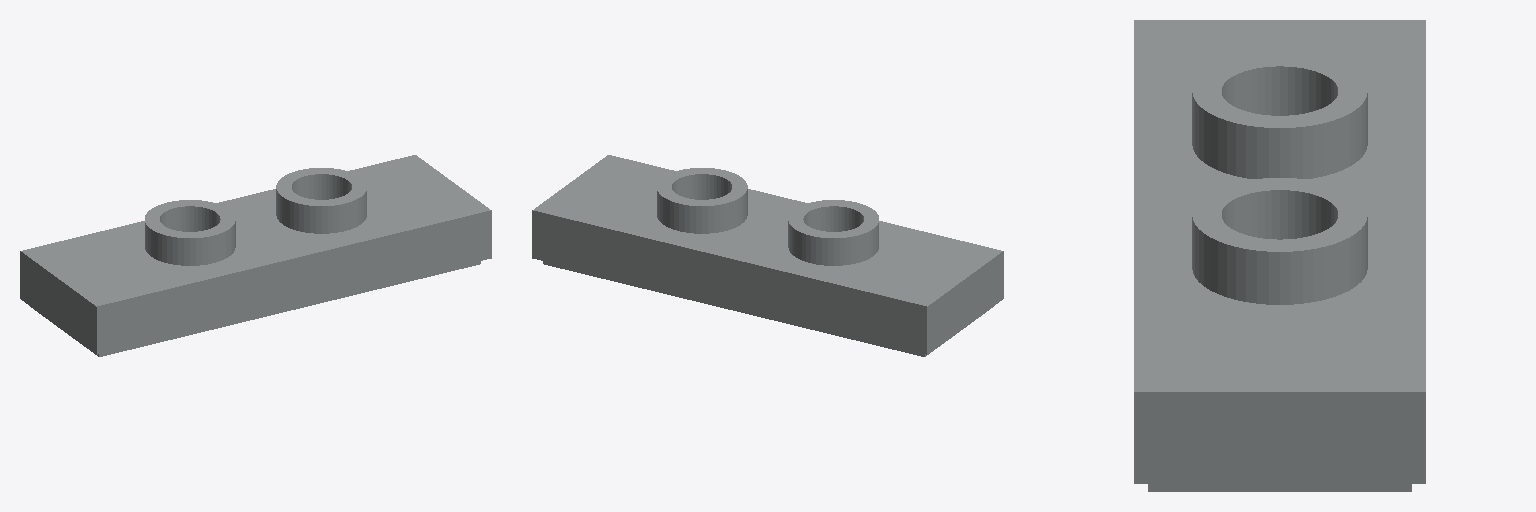
URDF robot description (34103__light_bluish_gray):
<?xml version="1.0"?>
<robot name="34103__light_bluish_gray">
  <link name="34103__light_bluish_gray">
    <inertial>
      <origin xyz="0.000000 0.000000 -0.001055" rpy="0 0 0"/>
      <mass value="0.000840"/>
      <inertia ixx="5.466965507e-09" ixy="-5.159781409e-25" ixz="-3.055117956e-25" iyy="3.830927649e-08" iyz="1.835657523e-26" izz="4.109653476e-08"/>
    </inertial>
    <visual>
      <geometry>
        <mesh filename="../meshes/visual/34103.obj" scale="1 1 1"/>
      </geometry>
      <material name="34103__light_bluish_gray_color">
        <color rgba="0.630 0.650 0.650 1.000"/>
      </material>
    </visual>
    <collision>
      <geometry>
        <mesh filename="../meshes/collision/34103_hull.obj" scale="1 1 1"/>
      </geometry>
    </collision>
  </link>
</robot>

--- Facts derived from the render (not from the file) ---
The picture shows the robot from 3 angles, left to right: view 1: azimuth 30°, elevation 25°; view 2: azimuth 150°, elevation 25°; view 3: azimuth 270°, elevation 25°; orthographic projection.
Model 34103__light_bluish_gray with 1 links and 0 joints (none), rooted at 34103__light_bluish_gray, posed all joints at 0.
Links seen in each view (by area): view 1: 34103__light_bluish_gray; view 2: 34103__light_bluish_gray; view 3: 34103__light_bluish_gray.
Link boxes in pixels (left/top/right/bottom): 34103__light_bluish_gray: left=20, top=155, right=491, bottom=356; 34103__light_bluish_gray: left=532, top=155, right=1003, bottom=356; 34103__light_bluish_gray: left=1134, top=20, right=1425, bottom=491.
Bounding box of the posed robot: 0.024 × 0.008 × 0.0048 m (x, y, z).
1 mesh visuals loaded from 1 distinct referenced files (1 OBJ).
